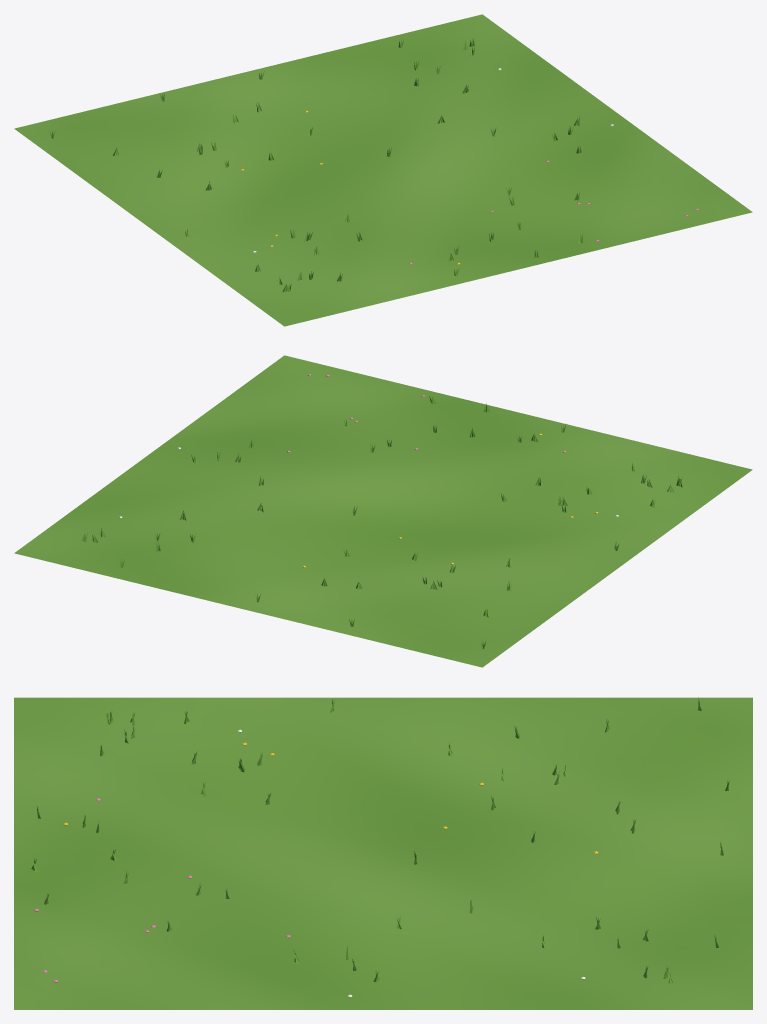
File: terreno_tile_20m.glb
3 renders of one model, top to bottom at view 1: azimuth 30°, elevation 25°; view 2: azimuth 150°, elevation 25°; view 3: azimuth 270°, elevation 25°, orthographic. The views are drawn at different scales.
Visible parts, largest first — view 1: cesped, matas; view 2: cesped, matas; view 3: cesped, matas.
Part boxes in pixels (bbox=[...]): cesped: bbox=[14, 14, 752, 326]; matas: bbox=[50, 38, 582, 292]; cesped: bbox=[14, 355, 752, 667]; matas: bbox=[81, 396, 682, 649]; cesped: bbox=[14, 697, 752, 1009]; matas: bbox=[31, 697, 729, 984].
Bounding box in the file's own units: 20 × 0.6023 × 20.
